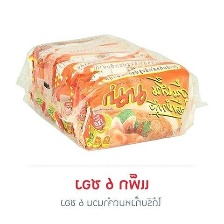snack: (10, 27, 214, 156)
